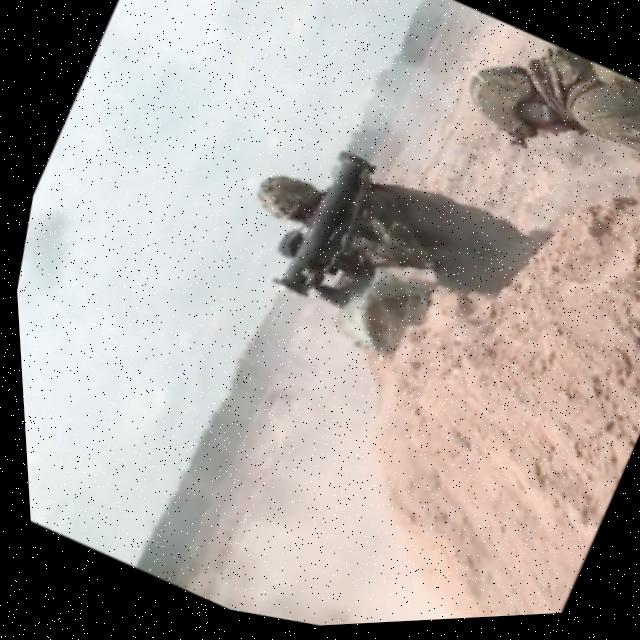rocket: (247, 132, 388, 322)
